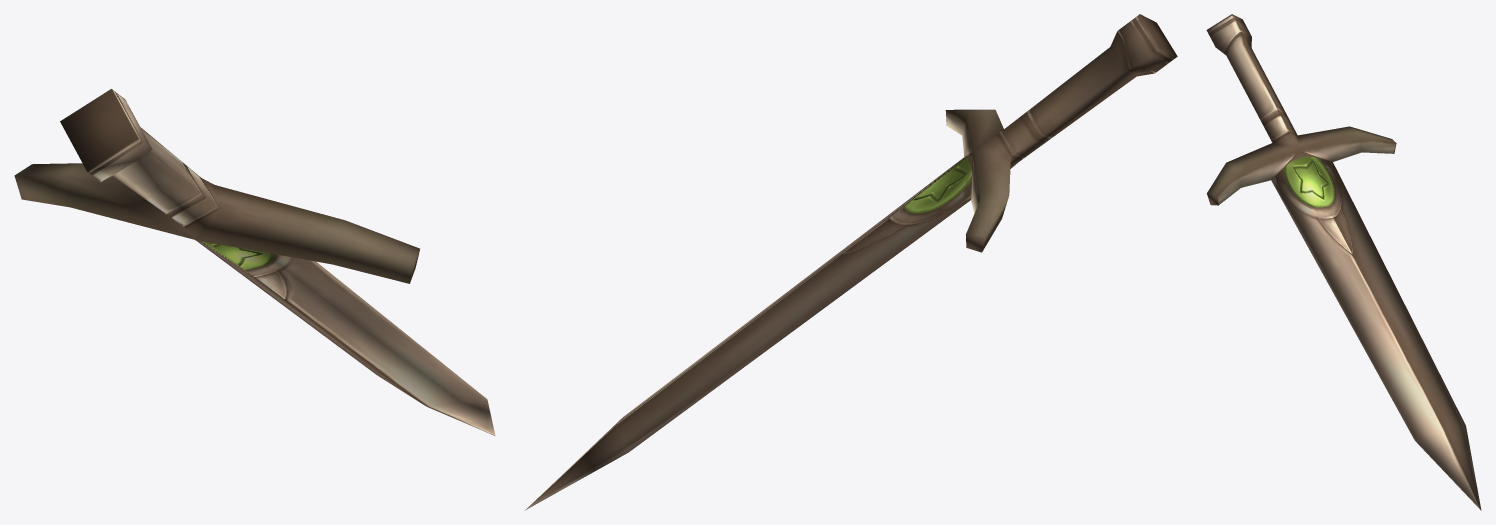
File: Sword(41).obj
The picture shows the model from 3 angles, left to right: view 1: azimuth 30°, elevation 25°; view 2: azimuth 150°, elevation 25°; view 3: azimuth 270°, elevation 25°; orthographic projection. The views are drawn at different scales.
Visible parts, largest first — view 1: sword1_LOD003; view 2: sword1_LOD003; view 3: sword1_LOD003.
Boxes of the visible parts, left/top/right/bottom form: sword1_LOD003: left=14, top=89, right=495, bottom=435; sword1_LOD003: left=524, top=14, right=1177, bottom=510; sword1_LOD003: left=1206, top=14, right=1481, bottom=510.
Bounding box in the file's own units: 0.918 × 0.8908 × 0.6486.
